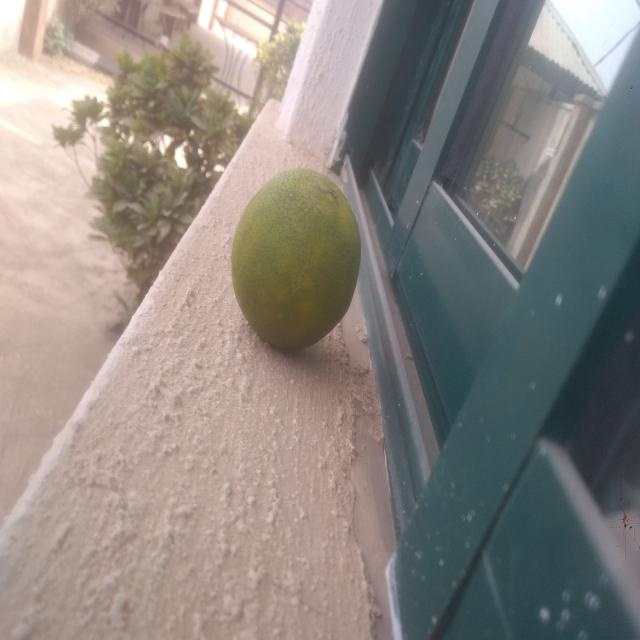agrume: (228, 156, 400, 361)
